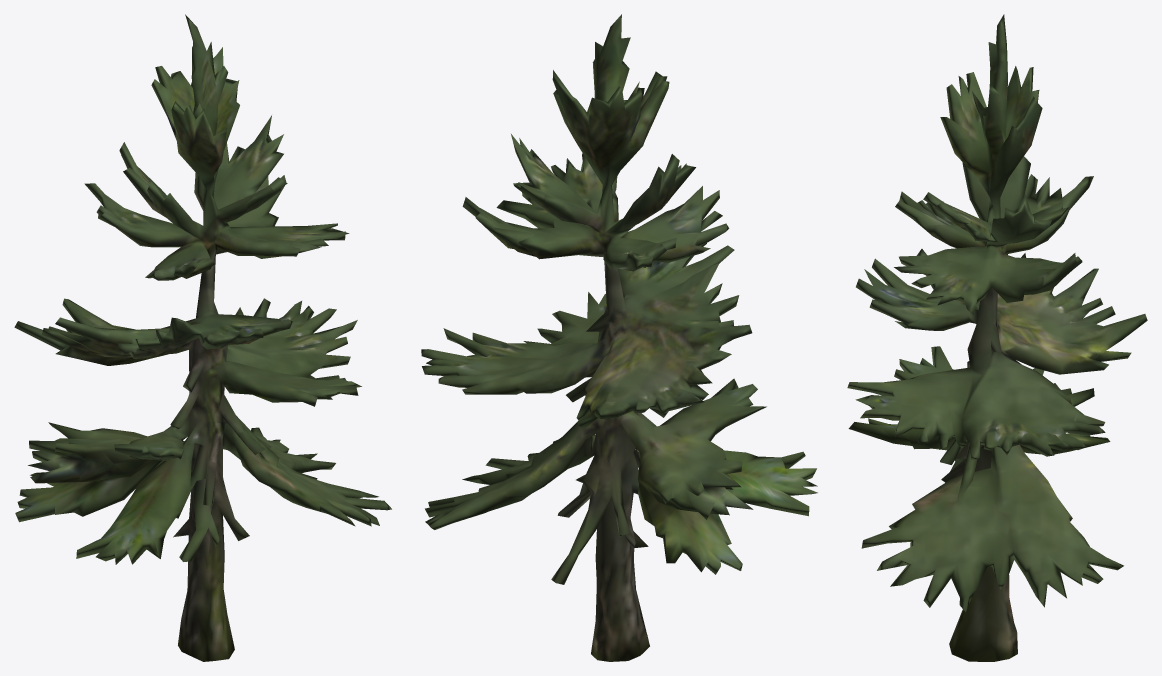
The model's file is Arbol_2.glb.
3 views of the same model, side by side, from view 1: azimuth 30°, elevation 25°; view 2: azimuth 150°, elevation 25°; view 3: azimuth 270°, elevation 25° (orthographic). The views are drawn at different scales.
Visible parts, largest first — view 1: Arbol 2; view 2: Arbol 2; view 3: Arbol 2.
Part boxes in pixels (<box>): Arbol 2: <box>14,14,391,661</box>; Arbol 2: <box>421,14,817,661</box>; Arbol 2: <box>847,14,1147,661</box>.
Size of the model in its own units: 0.1255 by 0.2354 by 0.1014.
1 material, 1 textured.
